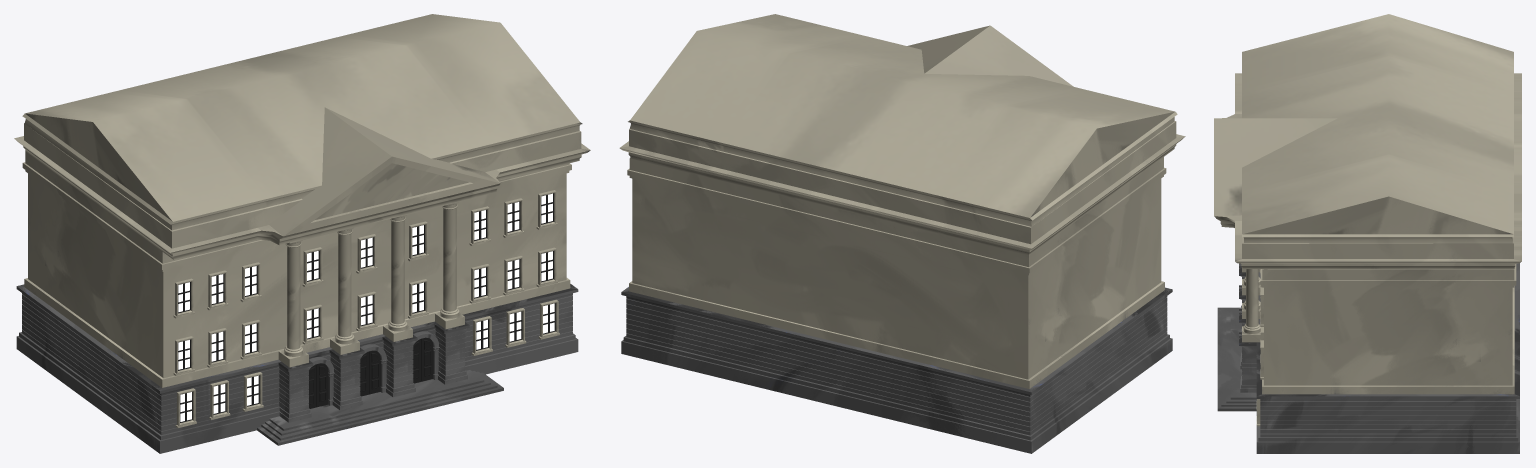
3 renders of one model, left to right at view 1: azimuth 30°, elevation 25°; view 2: azimuth 150°, elevation 25°; view 3: azimuth 270°, elevation 25°, orthographic. The views are drawn at different scales.
Parts seen in each view (by area): view 1: Stadhuis; view 2: Stadhuis; view 3: Stadhuis.
Boxes of the visible parts, x1=… form: Stadhuis: x1=14, y1=14, x2=590, y2=453; Stadhuis: x1=619, y1=14, x2=1185, y2=453; Stadhuis: x1=1214, y1=14, x2=1521, y2=453.
Bounding box in the file's own units: 25.14 × 15.88 × 17.38.
Materials: 1 (1 with a texture image).
